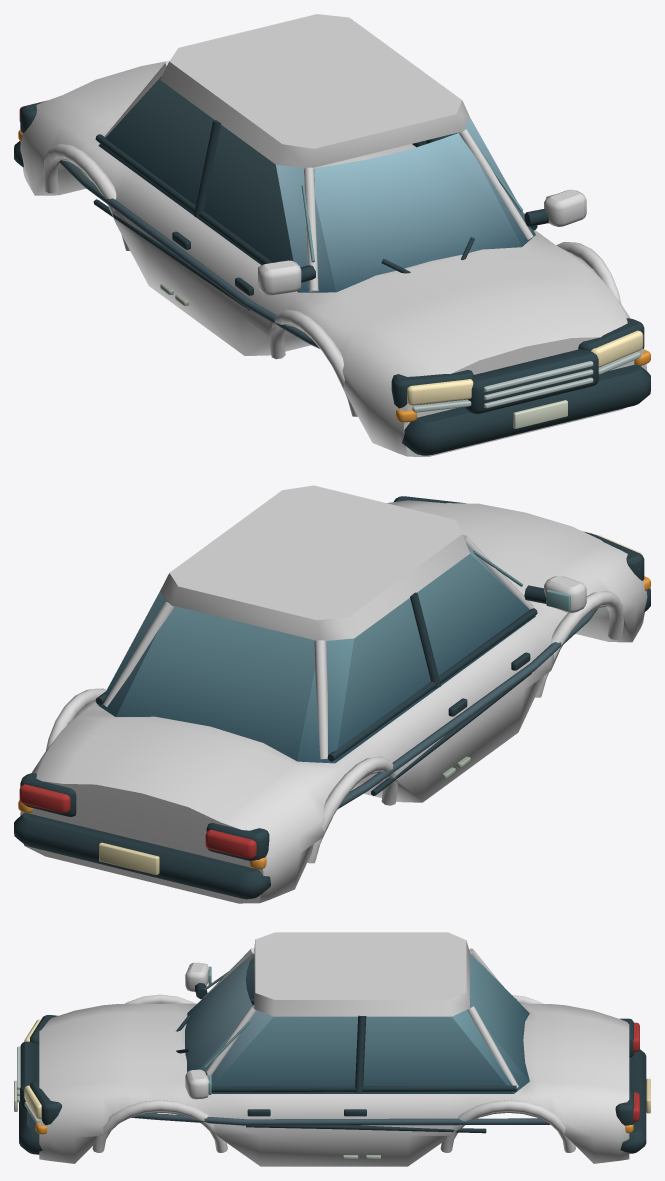
Rendered from crest.glb.
3 views of the same model, one above another, from view 1: azimuth 30°, elevation 25°; view 2: azimuth 150°, elevation 25°; view 3: azimuth 270°, elevation 25° (orthographic). The views are drawn at different scales.
Parts seen in each view (by area): view 1: Chassis, Headlamps; view 2: Chassis, BrakeLamps; view 3: Chassis, Headlamps, BrakeLamps.
Boxes of the visible parts, x1,y1,x2,y2 form: Chassis: (14, 14, 650, 456); Headlamps: (407, 330, 643, 405); Chassis: (14, 485, 650, 903); BrakeLamps: (19, 784, 256, 858); Chassis: (14, 932, 650, 1166); Headlamps: (24, 1019, 41, 1119); BrakeLamps: (633, 1022, 639, 1121).
Size of the model in its own units: 1.76 by 1.03 by 3.9.
